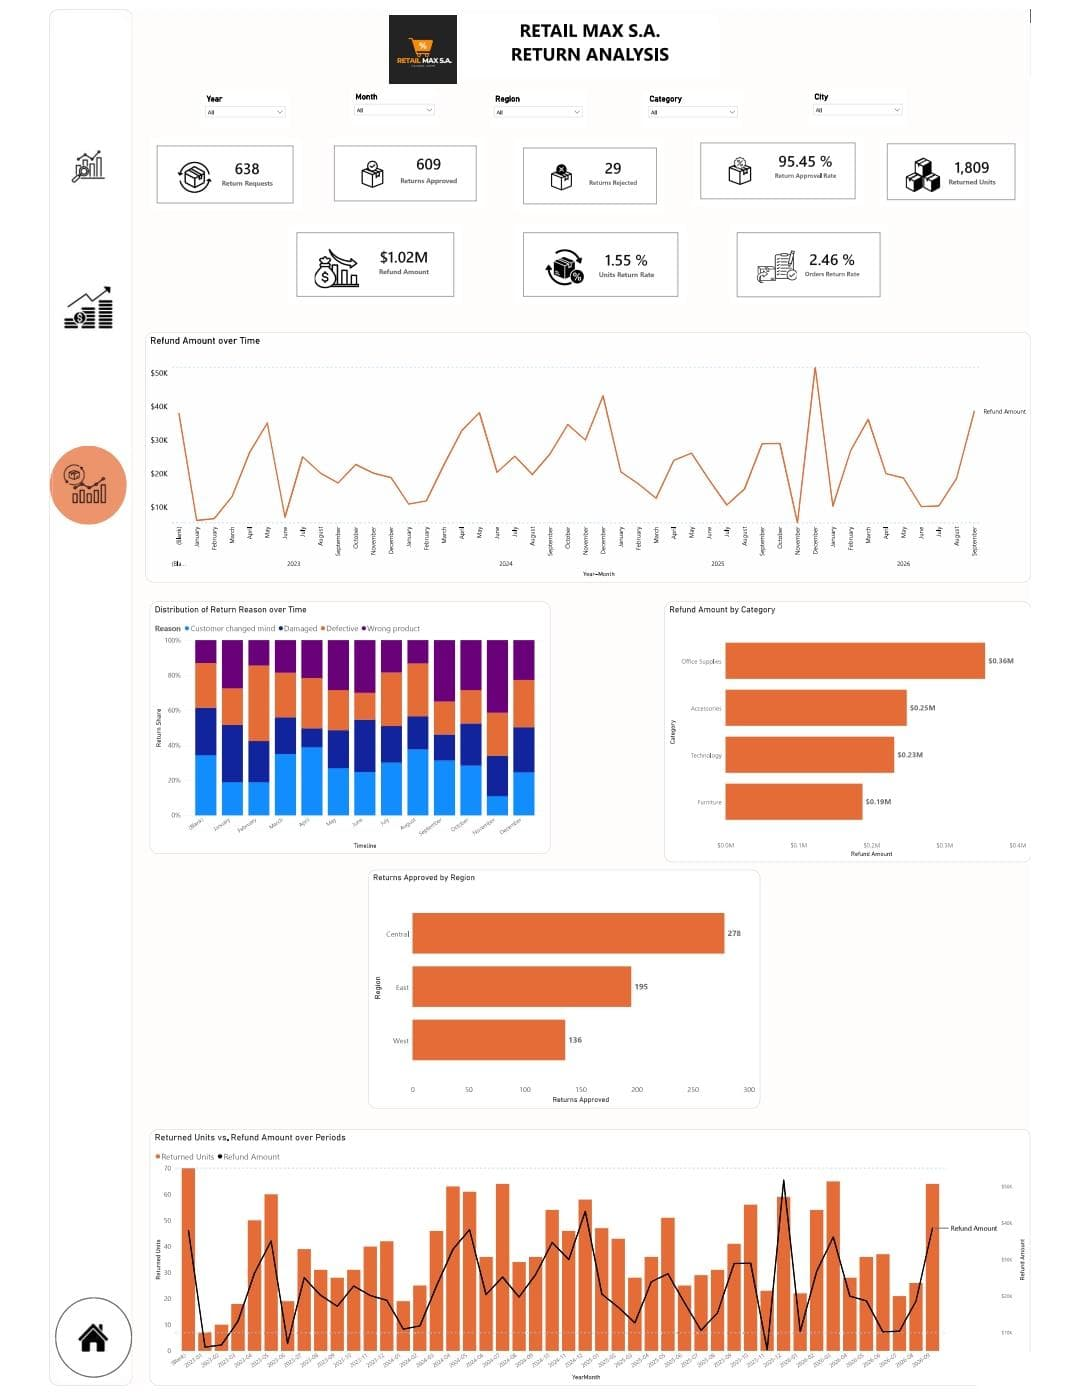

What the dashboard file says about the page in this screenshot:
{"tool":"powerbi","page":{"name":"Return Analysis","canvas":[2350,3300],"ordinal":3},"visuals":[{"type":"shape","box":[0,0,197.5,3300],"z":0,"group":"g2"},{"type":"image","box":[762.5,15,263.4,162.4],"z":0},{"type":"textbox","box":[987.5,15,614.5,140.6],"z":1000},{"type":"actionButton","box":[0,281.4,185,190.4],"z":1000,"group":"g2"},{"type":"slicer","fields":{"Values":["Products.Category"]},"box":[1425,197.5,233.9,83.9],"z":2000},{"type":"actionButton","box":[0,620.8,185,190.4],"z":2000,"group":"g2"},{"type":"slicer","fields":{"Values":["Region.Region"]},"box":[1055,197.5,232.1,83.9],"z":3000},{"type":"actionButton","box":[0,1045.7,185,190.4],"z":3000,"group":"g2"},{"type":"slicer","fields":{"Values":["Calendar.MonthName"]},"box":[720,192.5,212.5,83.9],"z":4000},{"type":"actionButton","box":[12.5,3087.5,185,193.1],"z":4000,"group":"g2"},{"type":"cardVisual","title":"Gross Profit ","fields":{"Data":["Measuress.Returned Units"]},"box":[1990,305,341.2,168.6],"z":5000},{"type":"cardVisual","title":"Gross Profit ","fields":{"Data":["Measuress.Unit Return Rate"]},"box":[1117.5,517.5,405.6,188.9],"z":6000},{"type":"cardVisual","title":"Gross Profit ","fields":{"Data":["Measuress.Refund Amount"]},"box":[575,517.5,411.1,188.9],"z":7000},{"type":"cardVisual","title":"Gross Profit ","fields":{"Data":["Measuress.Orders Return Rate"]},"box":[1630,517.5,377.6,189.8],"z":8000},{"type":"slicer","fields":{"Values":["Customers.City"]},"box":[1820,192.5,233.9,83.9],"z":9000},{"type":"slicer","fields":{"Values":["Calendar.Year"]},"box":[362.5,197.5,212.5,83.9],"z":10000},{"type":"group","id":"g1","title":"Group 1","box":[228.8,774.4,2122.5,600],"z":11000},{"type":"cardVisual","title":"Gross Profit ","fields":{"Data":["Measuress.Returns Approved"]},"box":[665,310,375,166.7],"z":12000},{"type":"cardVisual","title":"Gross Profit ","fields":{"Data":["Measuress.Return Orders"]},"box":[240,310,361.1,172.2],"z":13000},{"type":"lineChart","title":"Refund Amount over  Time","fields":{"Category":["Calendar.Year","Calendar.MonthName"],"Y":["Measuress.Refund Amount"]},"box":[228.8,774.4,2122.5,600],"z":13000,"group":"g1"},{"type":"cardVisual","title":"Gross Profit ","fields":{"Data":["Measuress.Return Approval Rate"]},"box":[1542.5,302.5,405.6,169.4],"z":14000},{"type":"cardVisual","title":"Gross Profit ","fields":{"Data":["Measuress.Returns Rejected"]},"box":[1117.5,315,354.9,168.6],"z":15000},{"type":"hundredPercentStackedColumnChart","title":"Distribution of Return Reason over Time","fields":{"Category":["Calendar.MonthName"],"Y":["Measuress.Returned Units"],"Series":["Returns.ReturnReason"]},"box":[240,1420,960,605],"z":16000},{"type":"clusteredBarChart","fields":{"Y":["Measuress.Refund Amount"],"Category":["Products.Category Hierarchy.Category","Products.Category Hierarchy.ProductName"]},"box":[1472.5,1420,880,625],"z":17000},{"type":"clusteredBarChart","fields":{"Category":["Region.Region"],"Y":["Measuress.Returns Approved"]},"box":[762.5,2062.5,940,572.5],"z":18000},{"type":"lineClusteredColumnComboChart","title":"Returned Units vs. Refund Amount over Periods","fields":{"Y":["Measuress.Returned Units"],"Y2":["Measuress.Refund Amount"],"Category":["Calendar.YearMonth"]},"box":[240,2685,2110,615],"z":19000},{"type":"group","id":"g2","title":"Group 2","box":[0,0,197.5,3300],"z":20000}]}

Visuals, with their boxes on the page's 2350x3300 design canvas (x1, y1, x2, y2). These are canvas units, not pixel positions in the 1080x1396 screenshot, which may show the page scaled, cropped or inside an application window:
shape: (left=0, top=0, right=198, bottom=3300)
image: (left=762, top=15, right=1026, bottom=177)
textbox: (left=988, top=15, right=1602, bottom=156)
actionButton: (left=0, top=281, right=185, bottom=472)
slicer - Products.Category: (left=1425, top=198, right=1659, bottom=281)
actionButton: (left=0, top=621, right=185, bottom=811)
slicer - Region.Region: (left=1055, top=198, right=1287, bottom=281)
actionButton: (left=0, top=1046, right=185, bottom=1236)
slicer - Calendar.MonthName: (left=720, top=192, right=932, bottom=276)
actionButton: (left=12, top=3088, right=198, bottom=3281)
"Gross Profit " cardVisual: (left=1990, top=305, right=2331, bottom=474)
"Gross Profit " cardVisual: (left=1118, top=518, right=1523, bottom=706)
"Gross Profit " cardVisual: (left=575, top=518, right=986, bottom=706)
"Gross Profit " cardVisual: (left=1630, top=518, right=2008, bottom=707)
slicer - Customers.City: (left=1820, top=192, right=2054, bottom=276)
slicer - Calendar.Year: (left=362, top=198, right=575, bottom=281)
"Group 1" group: (left=229, top=774, right=2351, bottom=1374)
"Gross Profit " cardVisual: (left=665, top=310, right=1040, bottom=477)
"Gross Profit " cardVisual: (left=240, top=310, right=601, bottom=482)
"Refund Amount over  Time" lineChart: (left=229, top=774, right=2351, bottom=1374)
"Gross Profit " cardVisual: (left=1542, top=302, right=1948, bottom=472)
"Gross Profit " cardVisual: (left=1118, top=315, right=1472, bottom=484)
"Distribution of Return Reason over Time" hundredPercentStackedColumnChart: (left=240, top=1420, right=1200, bottom=2025)
clusteredBarChart - Measuress.Refund Amount x Products.Category Hierarchy.Category: (left=1472, top=1420, right=2352, bottom=2045)
clusteredBarChart - Region.Region x Measuress.Returns Approved: (left=762, top=2062, right=1702, bottom=2635)
"Returned Units vs. Refund Amount over Periods" lineClusteredColumnComboChart: (left=240, top=2685, right=2350, bottom=3300)
"Group 2" group: (left=0, top=0, right=198, bottom=3300)
